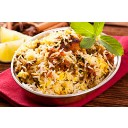briyani: (20, 33, 107, 91)
